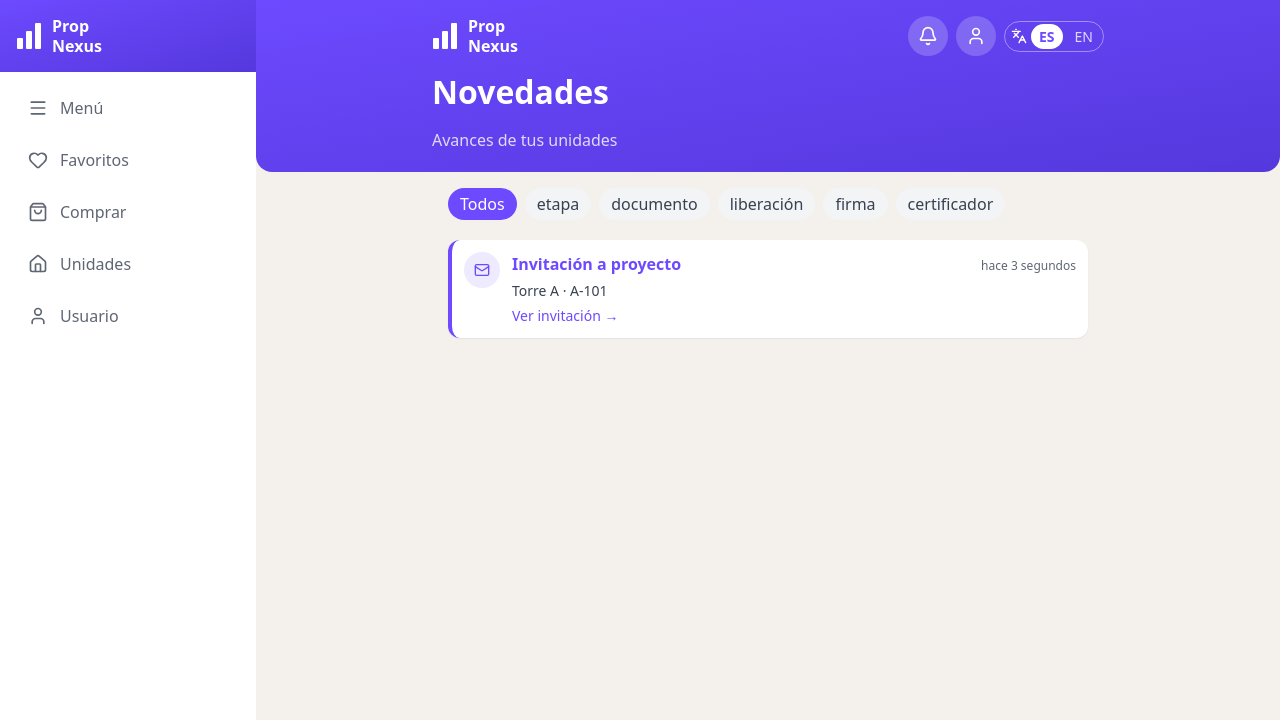
Scenario: /investor/notifications › ?invitation=<id>: aparece la InvitationCard pendiente y abrirla muestra el modal con los datos
What coordinates should you click on to do the following:
click the text "Ver invitación →"
I would click on:
 (565, 316)
Its box is [512,306,618,325].
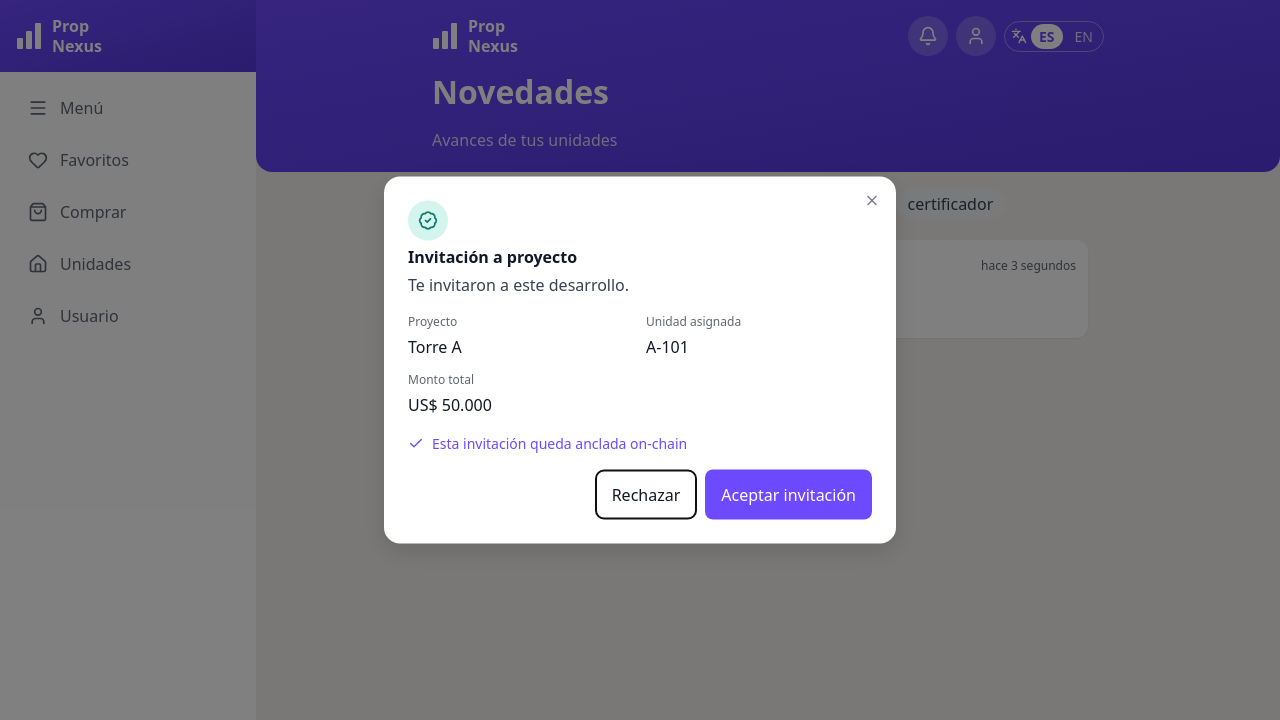
Check: the dialog with test id "INV-INVITE-VIEW-001" shows "Torre A", box [408,336,462,358]
Check: the dialog with test id "INV-INVITE-VIEW-001" shows "A-101", box [646,336,689,358]
Check: the button with test id "INV-INVITE-ACCEPT-002" is shown, box [705,470,872,520]
